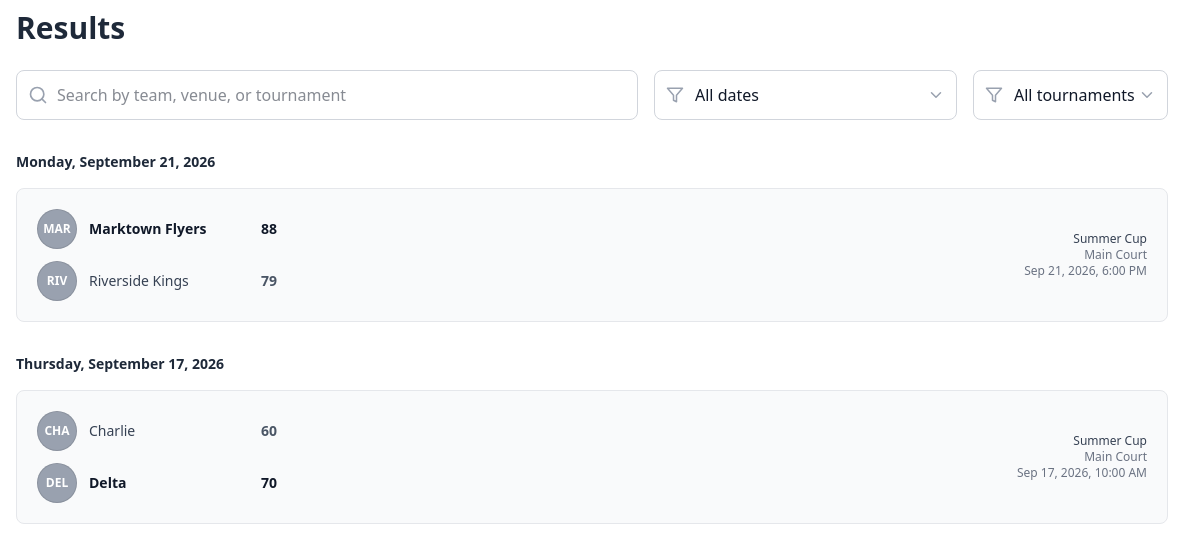
Test: Results › searches by team, venue or tournament over the full list — the backend ignores `search`, so this runs in the browser (Gap 33)
The image size is (1185, 541).
Type "riverside" into the field named "Search by team, venue or tournament" at (327,95), box [16,70,638,120]
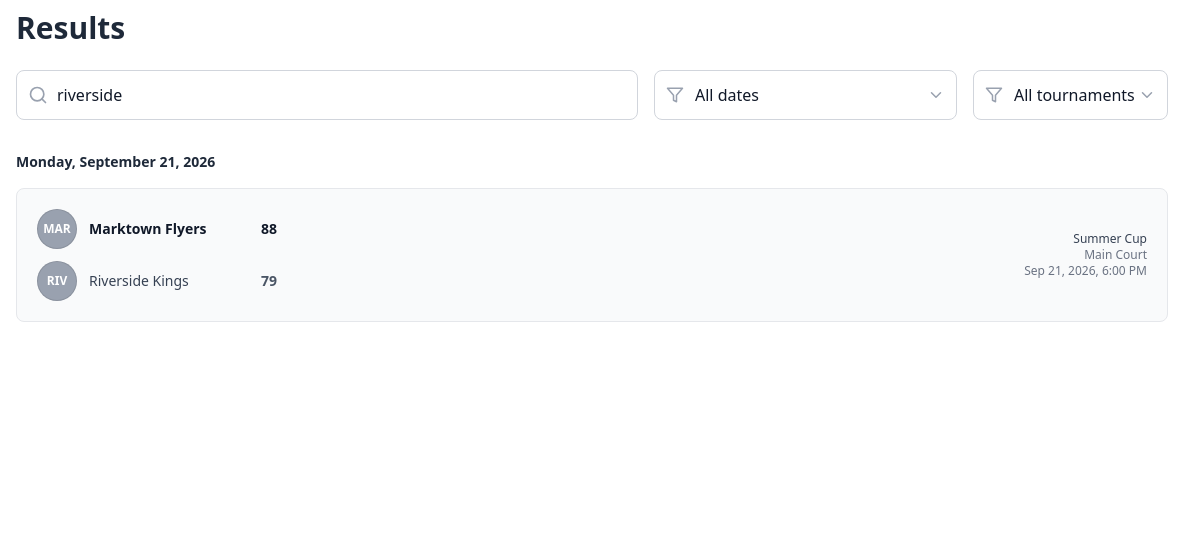
Expected: the text "Riverside Kings" is shown, [89,271,189,290]
Expected: the number of links is 1, [16,188,1168,322]
